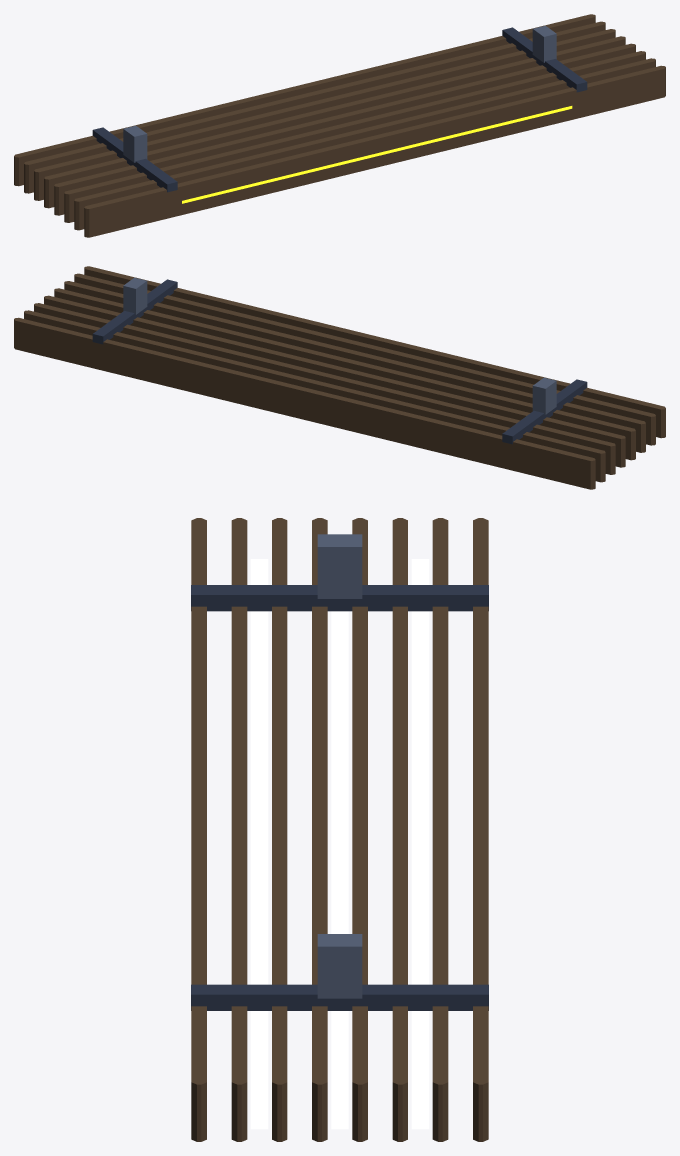
File: off_linear_baffle_light.glb
The picture shows the model from 3 angles, top to bottom: view 1: azimuth 30°, elevation 25°; view 2: azimuth 150°, elevation 25°; view 3: azimuth 270°, elevation 25°; orthographic projection. The views are drawn at different scales.
Visible parts, largest first — view 1: walnut_fin, crossbar, ceiling_stud, marker; view 2: walnut_fin, crossbar, ceiling_stud; view 3: walnut_fin, linear_diffuser, crossbar, ceiling_stud.
Part boxes in pixels (bbox=[...]): walnut_fin: bbox=[14, 14, 665, 237]; crossbar: bbox=[92, 27, 587, 192]; ceiling_stud: bbox=[123, 25, 556, 162]; marker: bbox=[182, 106, 572, 203]; walnut_fin: bbox=[14, 266, 665, 489]; crossbar: bbox=[92, 279, 587, 444]; ceiling_stud: bbox=[123, 277, 556, 414]; walnut_fin: bbox=[191, 518, 488, 1141]; linear_diffuser: bbox=[250, 559, 429, 1129]; crossbar: bbox=[191, 585, 488, 1010]; ceiling_stud: bbox=[317, 534, 362, 998].
Size of the model in its own units: 3.6 by 0.35 by 0.8.
